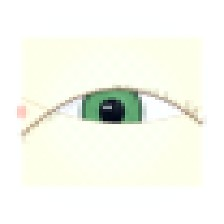pinguecula_lesion: (139, 94, 182, 128)
